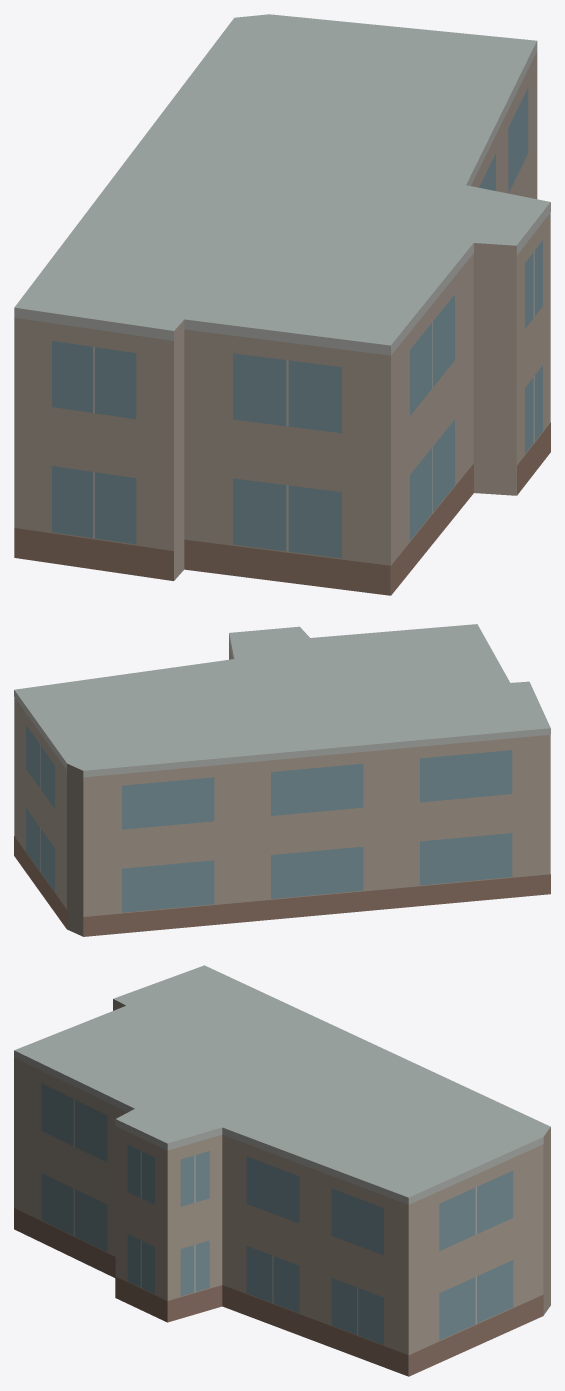
The model's file is survey-upis-32679326.glb.
3 views of the same model, one above another, from view 1: azimuth 30°, elevation 25°; view 2: azimuth 150°, elevation 25°; view 3: azimuth 270°, elevation 25° (orthographic). The views are drawn at different scales.
Parts seen in each view (by area): view 1: survey-upis-32679326.tmp; view 2: survey-upis-32679326.tmp; view 3: survey-upis-32679326.tmp.
Part boxes in pixels (box(x1,y1,x2,y2)): survey-upis-32679326.tmp: box(14, 14, 550, 595); survey-upis-32679326.tmp: box(14, 624, 550, 936); survey-upis-32679326.tmp: box(14, 965, 550, 1376).
Bounding box in the file's own units: 17 × 6.1 × 16.59.
